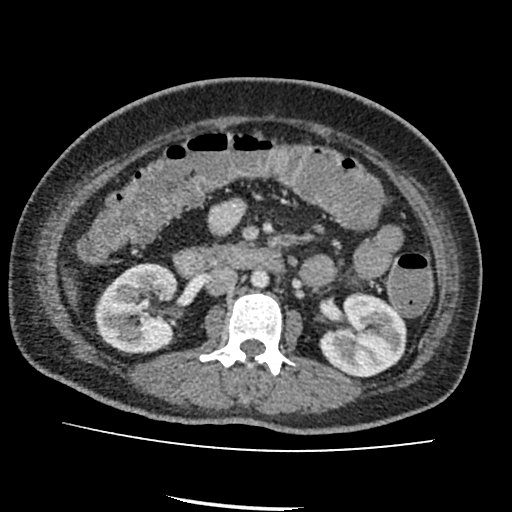aorta: (245, 267, 273, 290)
